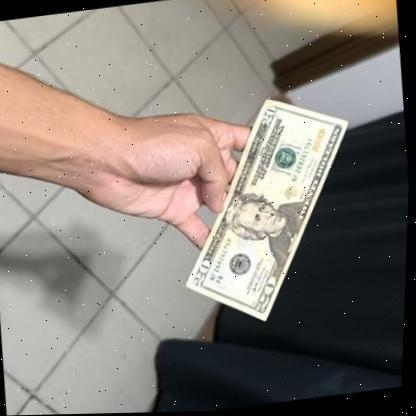dollar_front: (163, 89, 372, 332)
